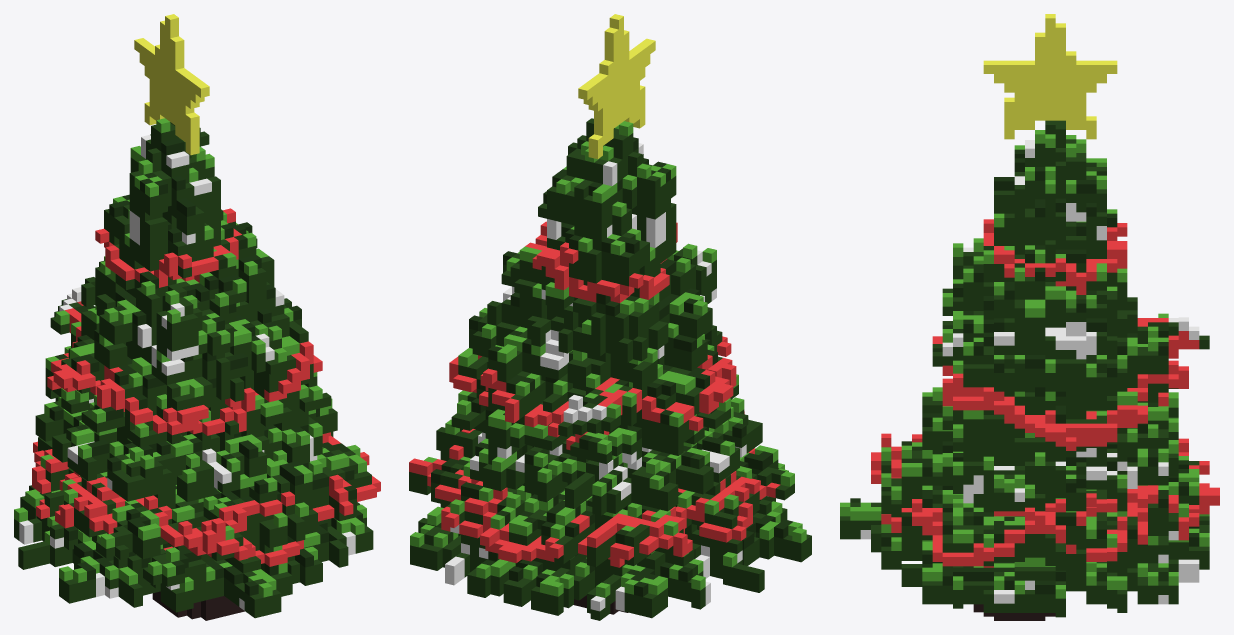
Rendered from tree-original.glb.
The picture shows the model from 3 angles, left to right: view 1: azimuth 30°, elevation 25°; view 2: azimuth 150°, elevation 25°; view 3: azimuth 270°, elevation 25°; orthographic projection. The views are drawn at different scales.
Parts seen in each view (by area): view 1: tree.vox; view 2: tree.vox; view 3: tree.vox.
Part boxes in pixels (box(x1,y1,x2,y2)): tree.vox: box(14, 14, 380, 620); tree.vox: box(409, 14, 811, 620); tree.vox: box(840, 14, 1219, 620).
Bounding box in the file's own units: 3.5 × 6.2 × 3.7.
1 material, 1 textured.
